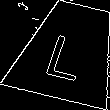L_N: (43, 23, 95, 80)
